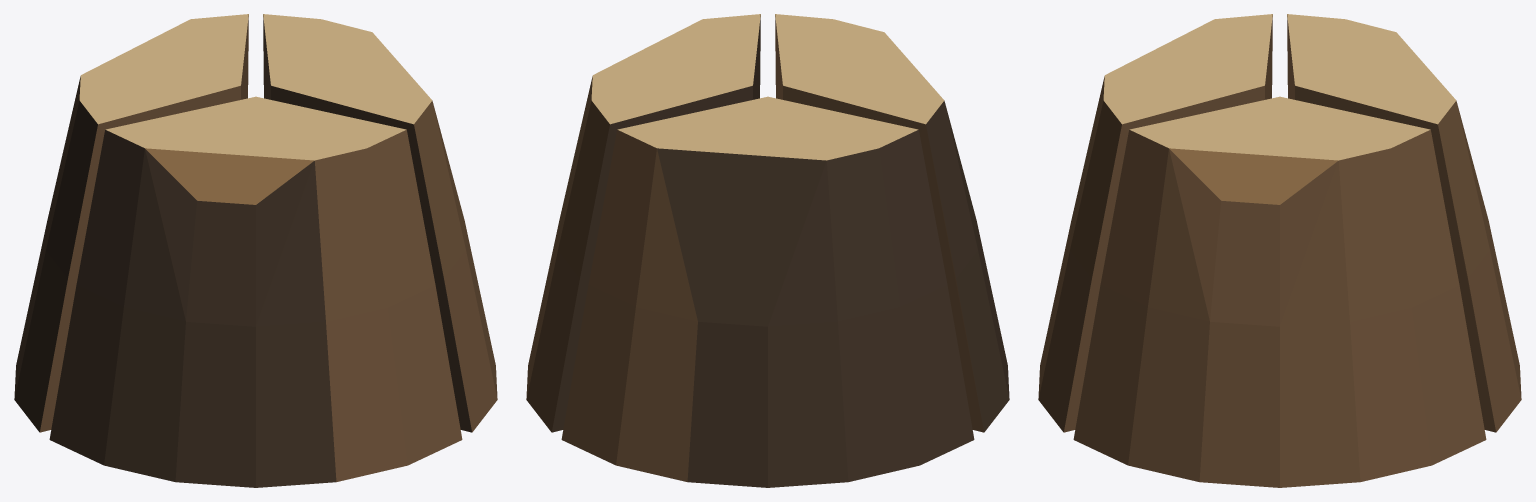
Rendered from TW_PROP_STUMP_SPLIT_B_LOD0.glb.
The picture shows the model from 3 angles, left to right: view 1: azimuth 30°, elevation 25°; view 2: azimuth 150°, elevation 25°; view 3: azimuth 270°, elevation 25°; orthographic projection.
Parts seen in each view (by area): view 1: TW_PROP_STUMP_SPLIT_B_LOD0; view 2: TW_PROP_STUMP_SPLIT_B_LOD0; view 3: TW_PROP_STUMP_SPLIT_B_LOD0.
Part boxes in pixels (left/top/right/bottom): TW_PROP_STUMP_SPLIT_B_LOD0: left=14, top=14, right=497, bottom=487; TW_PROP_STUMP_SPLIT_B_LOD0: left=526, top=14, right=1009, bottom=487; TW_PROP_STUMP_SPLIT_B_LOD0: left=1038, top=14, right=1521, bottom=487.
Size of the model in its own units: 0.9886 by 0.66 by 0.9782.
1 material, 1 textured.
